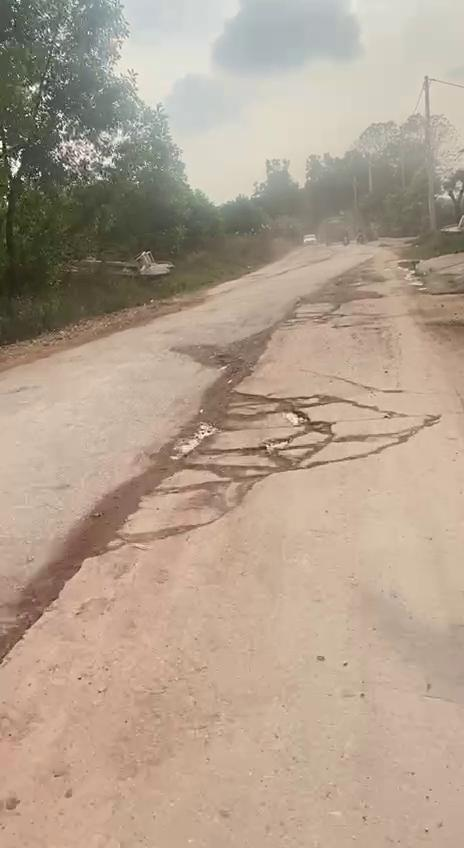pothole: (169, 380, 343, 486)
